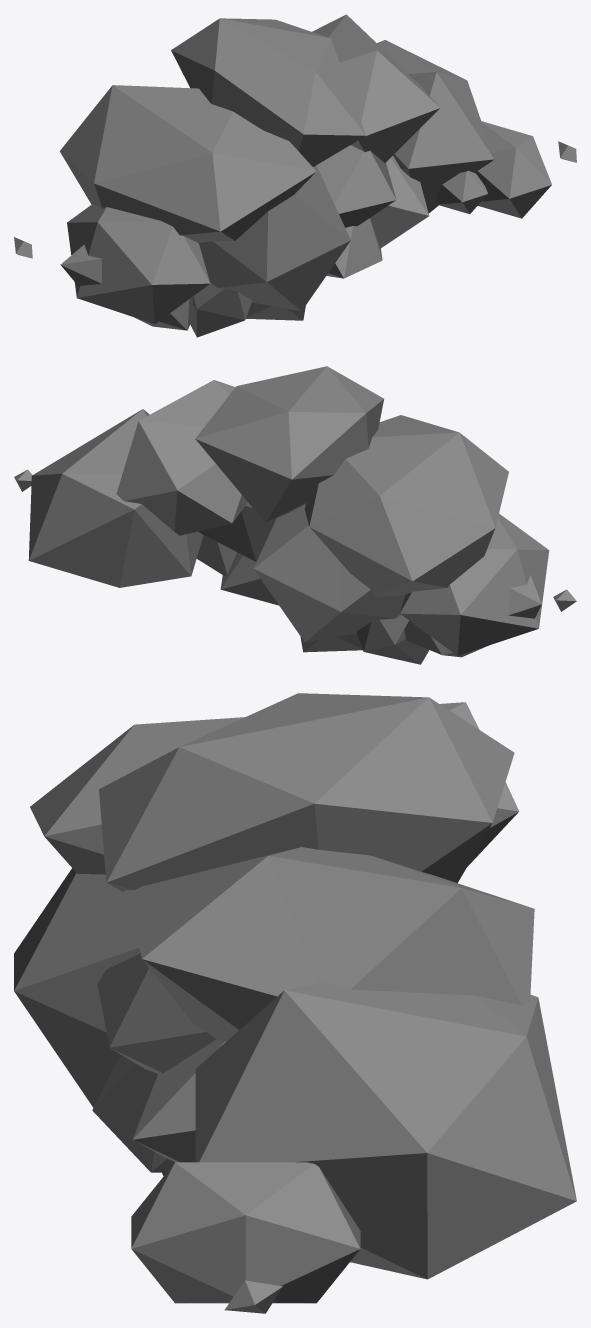
Rendered from Cloud3_Alt1.fbx.
3 views of the same model, one above another, from view 1: azimuth 30°, elevation 25°; view 2: azimuth 150°, elevation 25°; view 3: azimuth 270°, elevation 25° (orthographic). The views are drawn at different scales.
Visible parts, largest first — view 1: Cloud3_Alt1; view 2: Cloud3_Alt1; view 3: Cloud3_Alt1.
Part boxes in pixels (x1=…): Cloud3_Alt1: x1=14, y1=14, x2=576, y2=337; Cloud3_Alt1: x1=14, y1=366, x2=576, y2=664; Cloud3_Alt1: x1=14, y1=693, x2=576, y2=1313.
Bounding box in the file's own units: 2.59 × 1.18 × 1.22.
